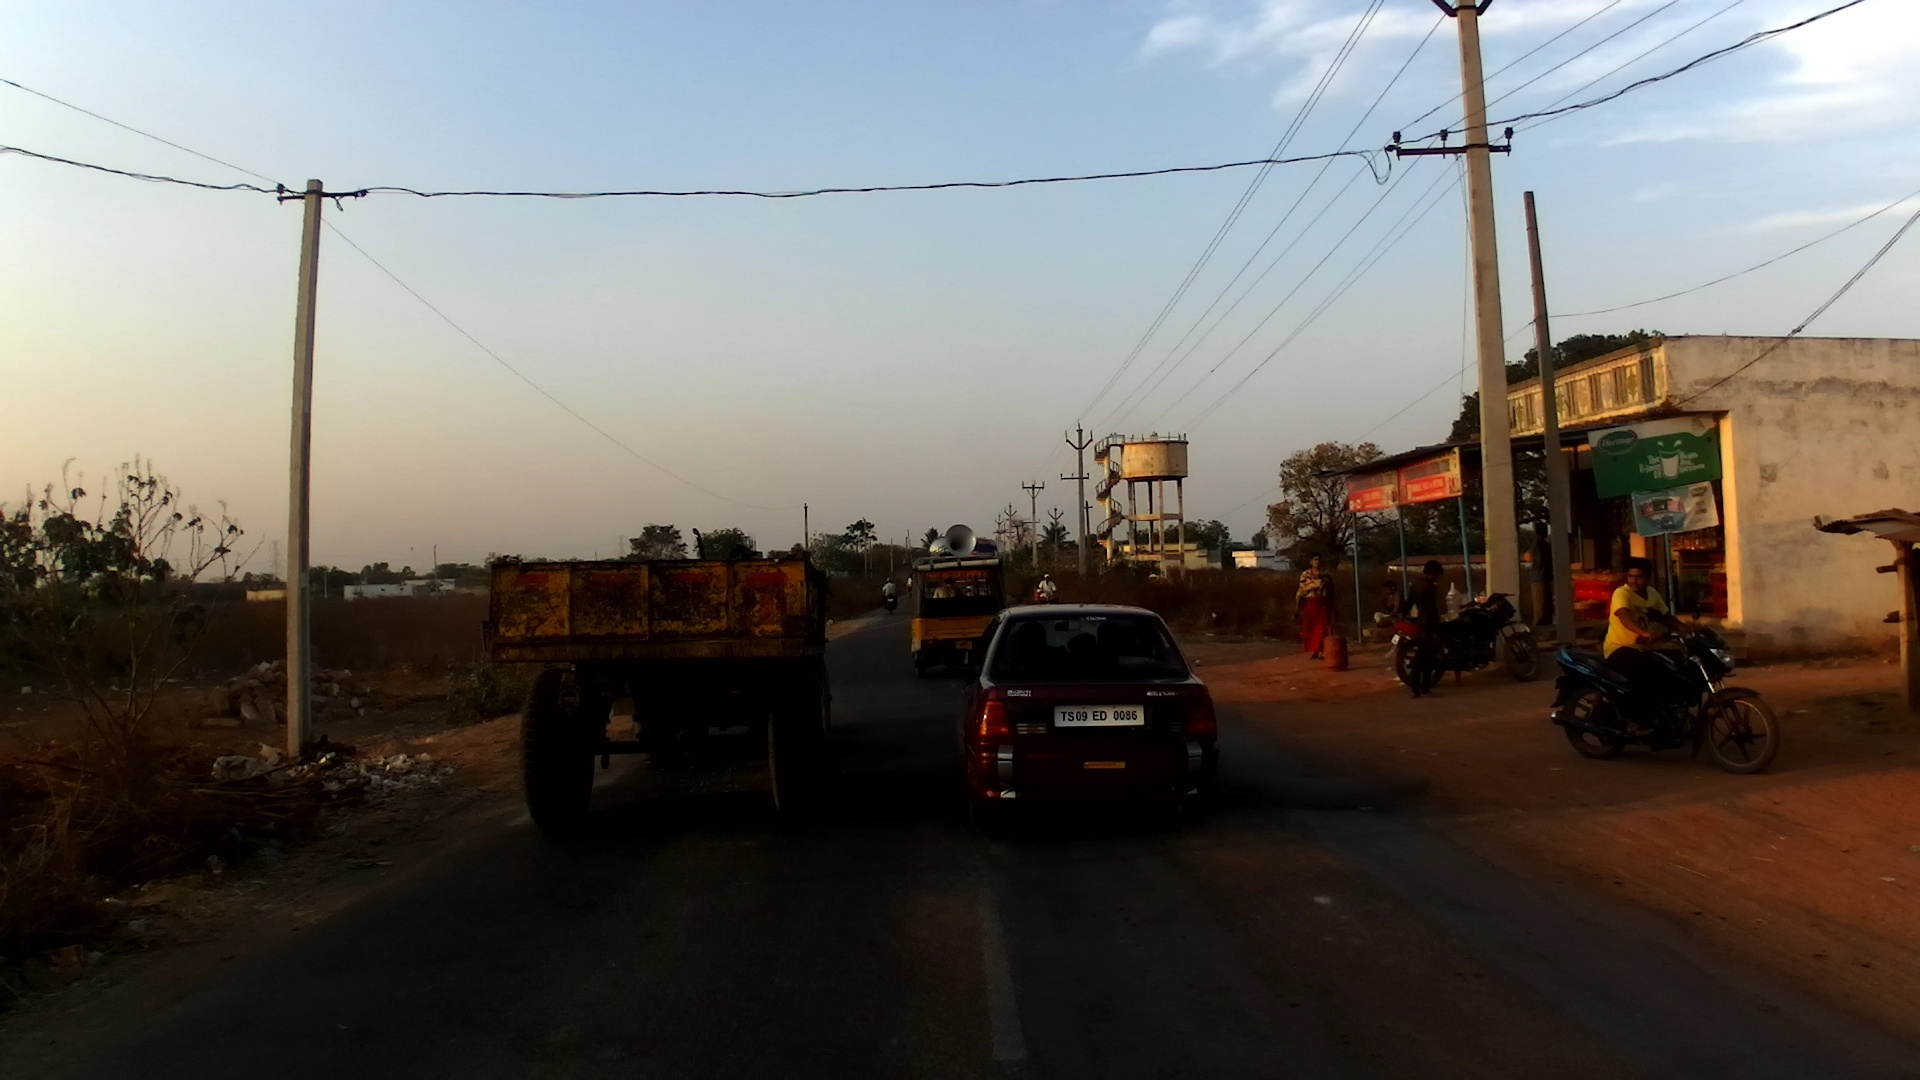autorickshaw: (904, 524, 1010, 688)
bicycle: (907, 582, 917, 602)
car: (956, 603, 1222, 842)
motorcycle: (1547, 603, 1783, 772), (1392, 591, 1544, 688), (1036, 582, 1064, 604), (883, 587, 900, 619)
person: (1295, 554, 1330, 663), (1526, 517, 1558, 629), (1376, 576, 1407, 630)
rider: (1608, 553, 1687, 750), (1394, 559, 1454, 701), (1036, 572, 1055, 607), (880, 575, 897, 610), (906, 571, 915, 593)
vehicle fallback: (479, 520, 842, 844)
